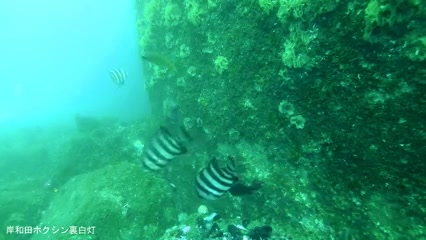ishidai: (190, 155, 240, 201), (137, 129, 190, 172), (107, 71, 129, 87)
